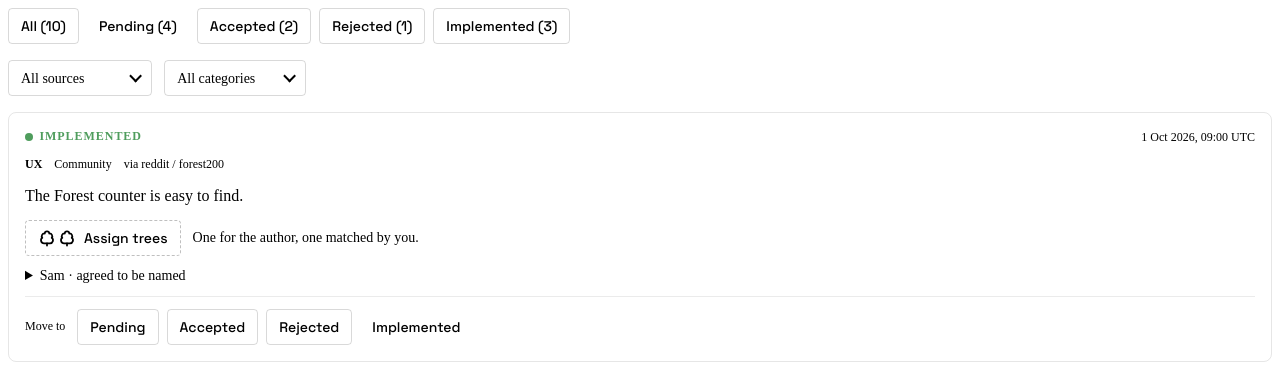
Test: AdminFeedbackBoard › assigning trees › changes nothing when the confirmation is cancelled
Expected: the text "The Forest counter is easy to find." is shown, [25, 186, 243, 204]
Step 1. Click the button with aria-label "Assign 2 trees" → x=103, y=238, box [25, 220, 181, 256]
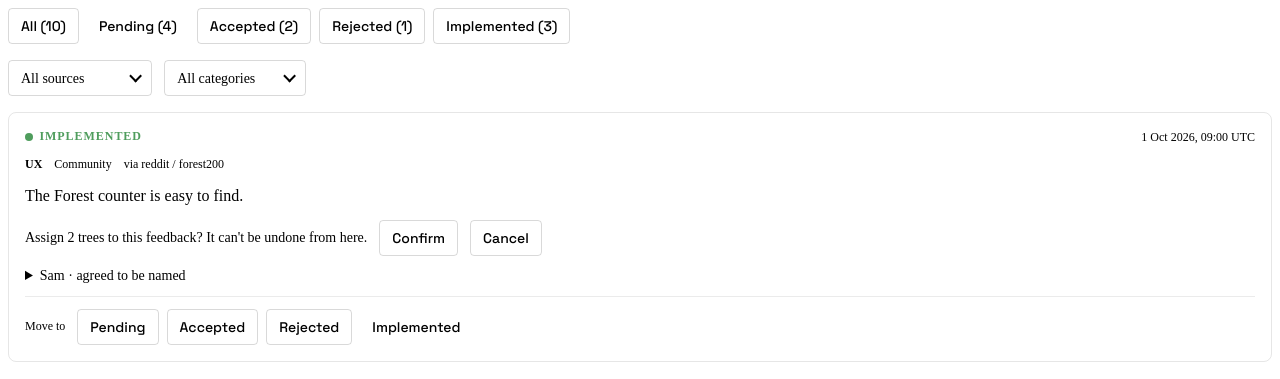
Step 2. Click the button "Cancel" → x=506, y=238, box [470, 220, 542, 256]
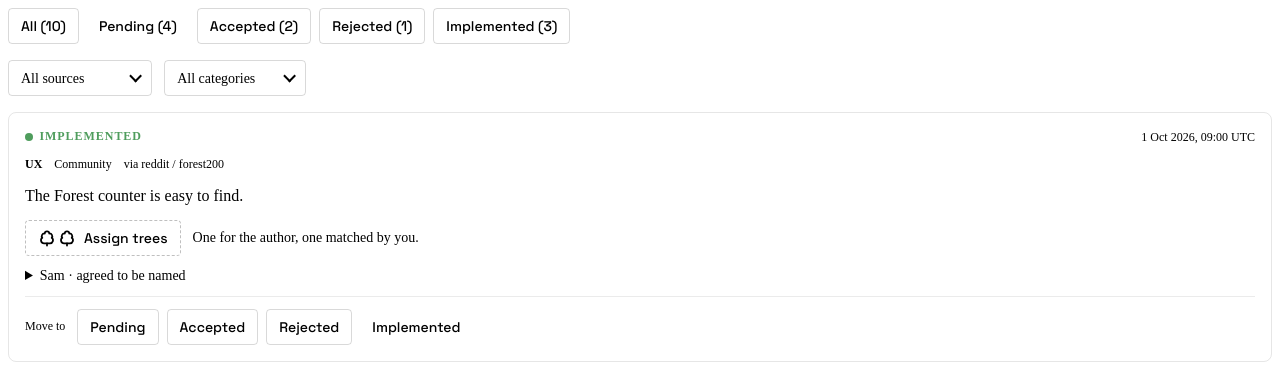
Result: the button with aria-label "Assign 2 trees" is enabled at [25, 220, 181, 256]
